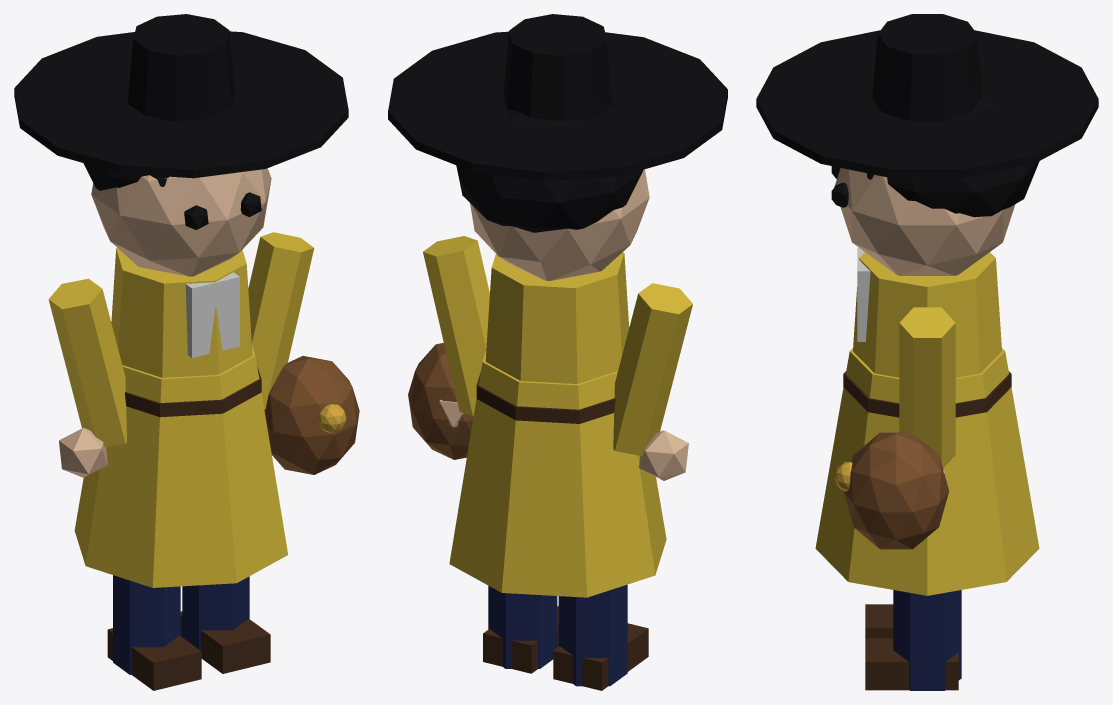
The model's file is SM_GZ_npc_candidate_0.fbx.
3 views of the same model, side by side, from view 1: azimuth 30°, elevation 25°; view 2: azimuth 150°, elevation 25°; view 3: azimuth 270°, elevation 25° (orthographic).
Parts seen in each view (by area): view 1: SM_GZ_npc_candidate_0; view 2: SM_GZ_npc_candidate_0; view 3: SM_GZ_npc_candidate_0.
Boxes of the visible parts, x1=… form: SM_GZ_npc_candidate_0: x1=14, y1=14, x2=359, y2=690; SM_GZ_npc_candidate_0: x1=388, y1=14, x2=727, y2=690; SM_GZ_npc_candidate_0: x1=756, y1=14, x2=1098, y2=690.
Bounding box in the file's own units: 112 × 222 × 110.
